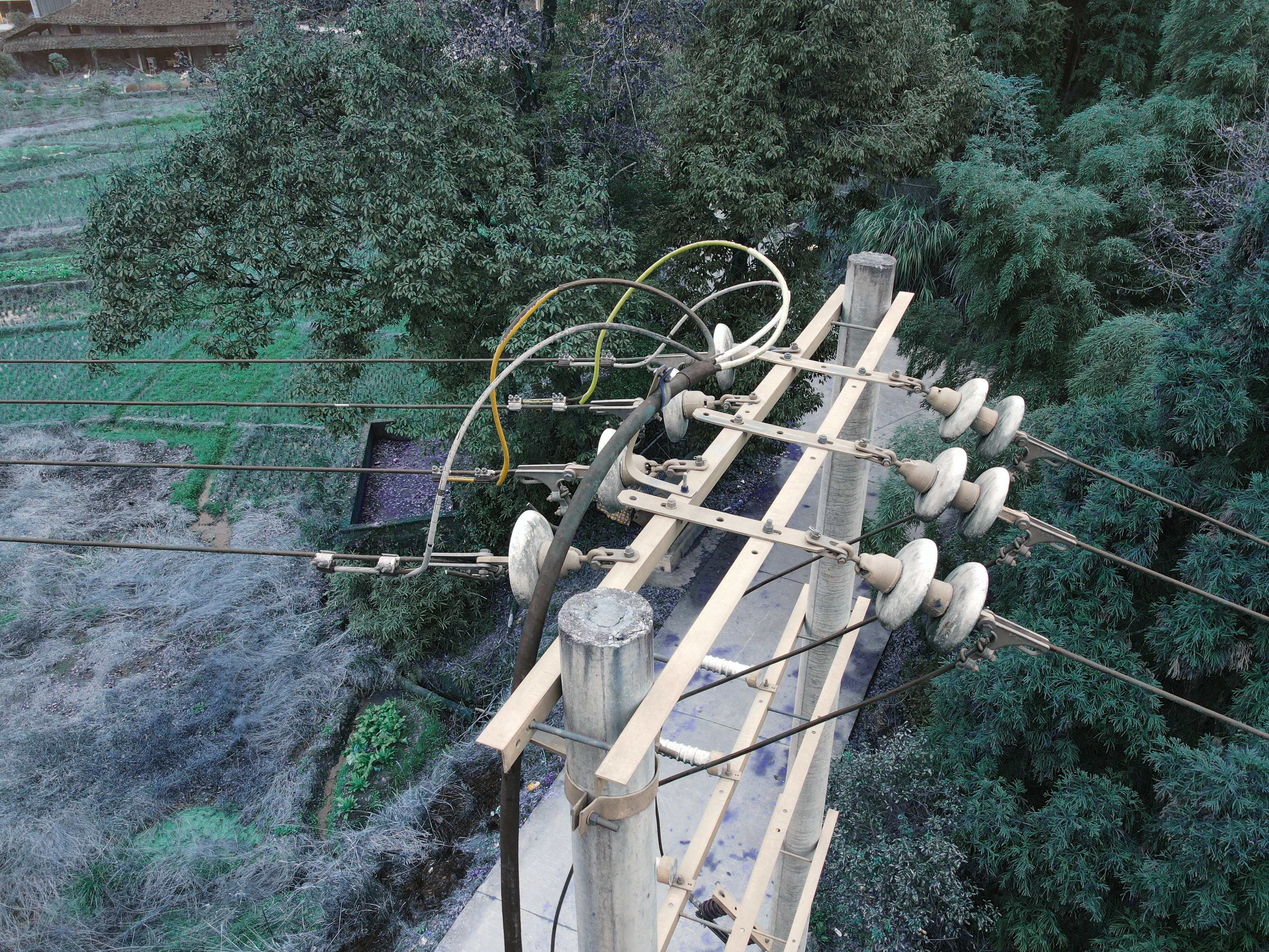severe_soiling_no_discharge_whole: (865, 538, 991, 654), (905, 448, 1016, 541), (925, 373, 1024, 462), (505, 510, 552, 605), (700, 654, 762, 686), (677, 742, 725, 776)
